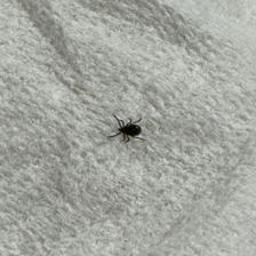Rhipicephalus sanguineus: (106, 114, 145, 144)
